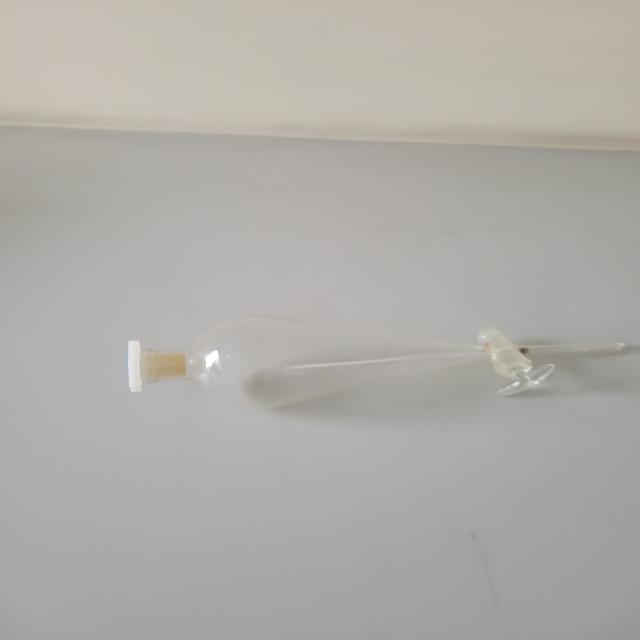Separating_Funnel: (102, 266, 640, 452)
